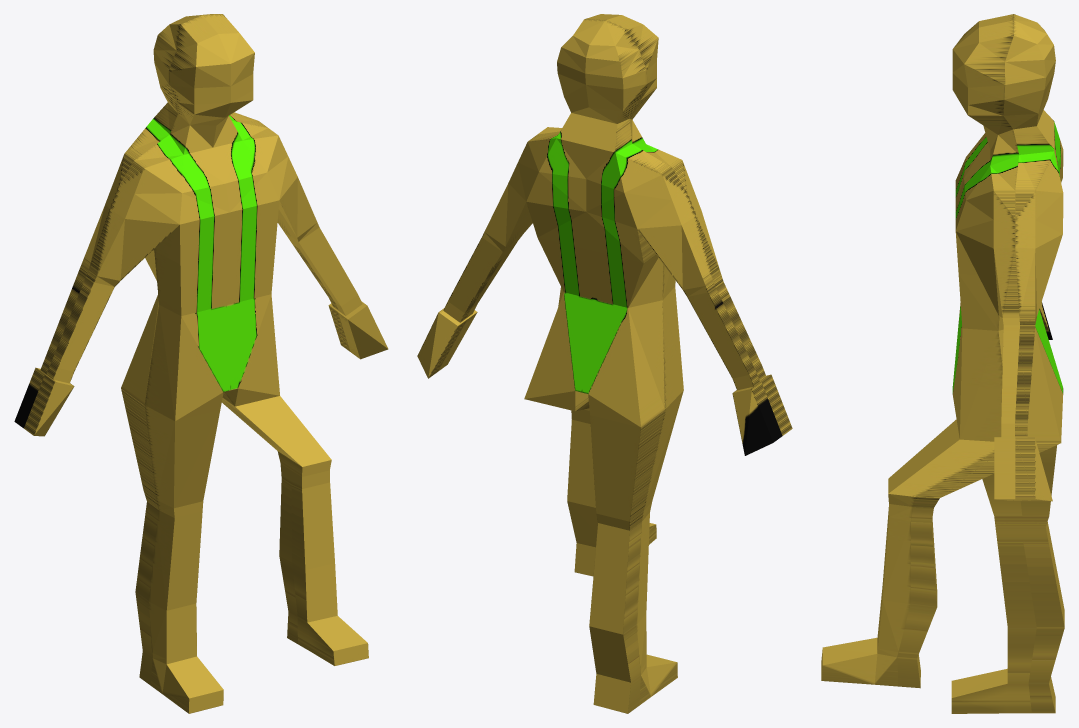
3 renders of one model, left to right at view 1: azimuth 30°, elevation 25°; view 2: azimuth 150°, elevation 25°; view 3: azimuth 270°, elevation 25°, orthographic. The views are drawn at different scales.
Parts seen in each view (by area): view 1: Borat; view 2: Borat; view 3: Borat.
Boxes of the visible parts, bbox=[...] form: Borat: bbox=[14, 14, 388, 713]; Borat: bbox=[417, 14, 792, 713]; Borat: bbox=[821, 14, 1064, 713].
Size of the model in its own units: 1.79 by 3.21 by 1.02.
